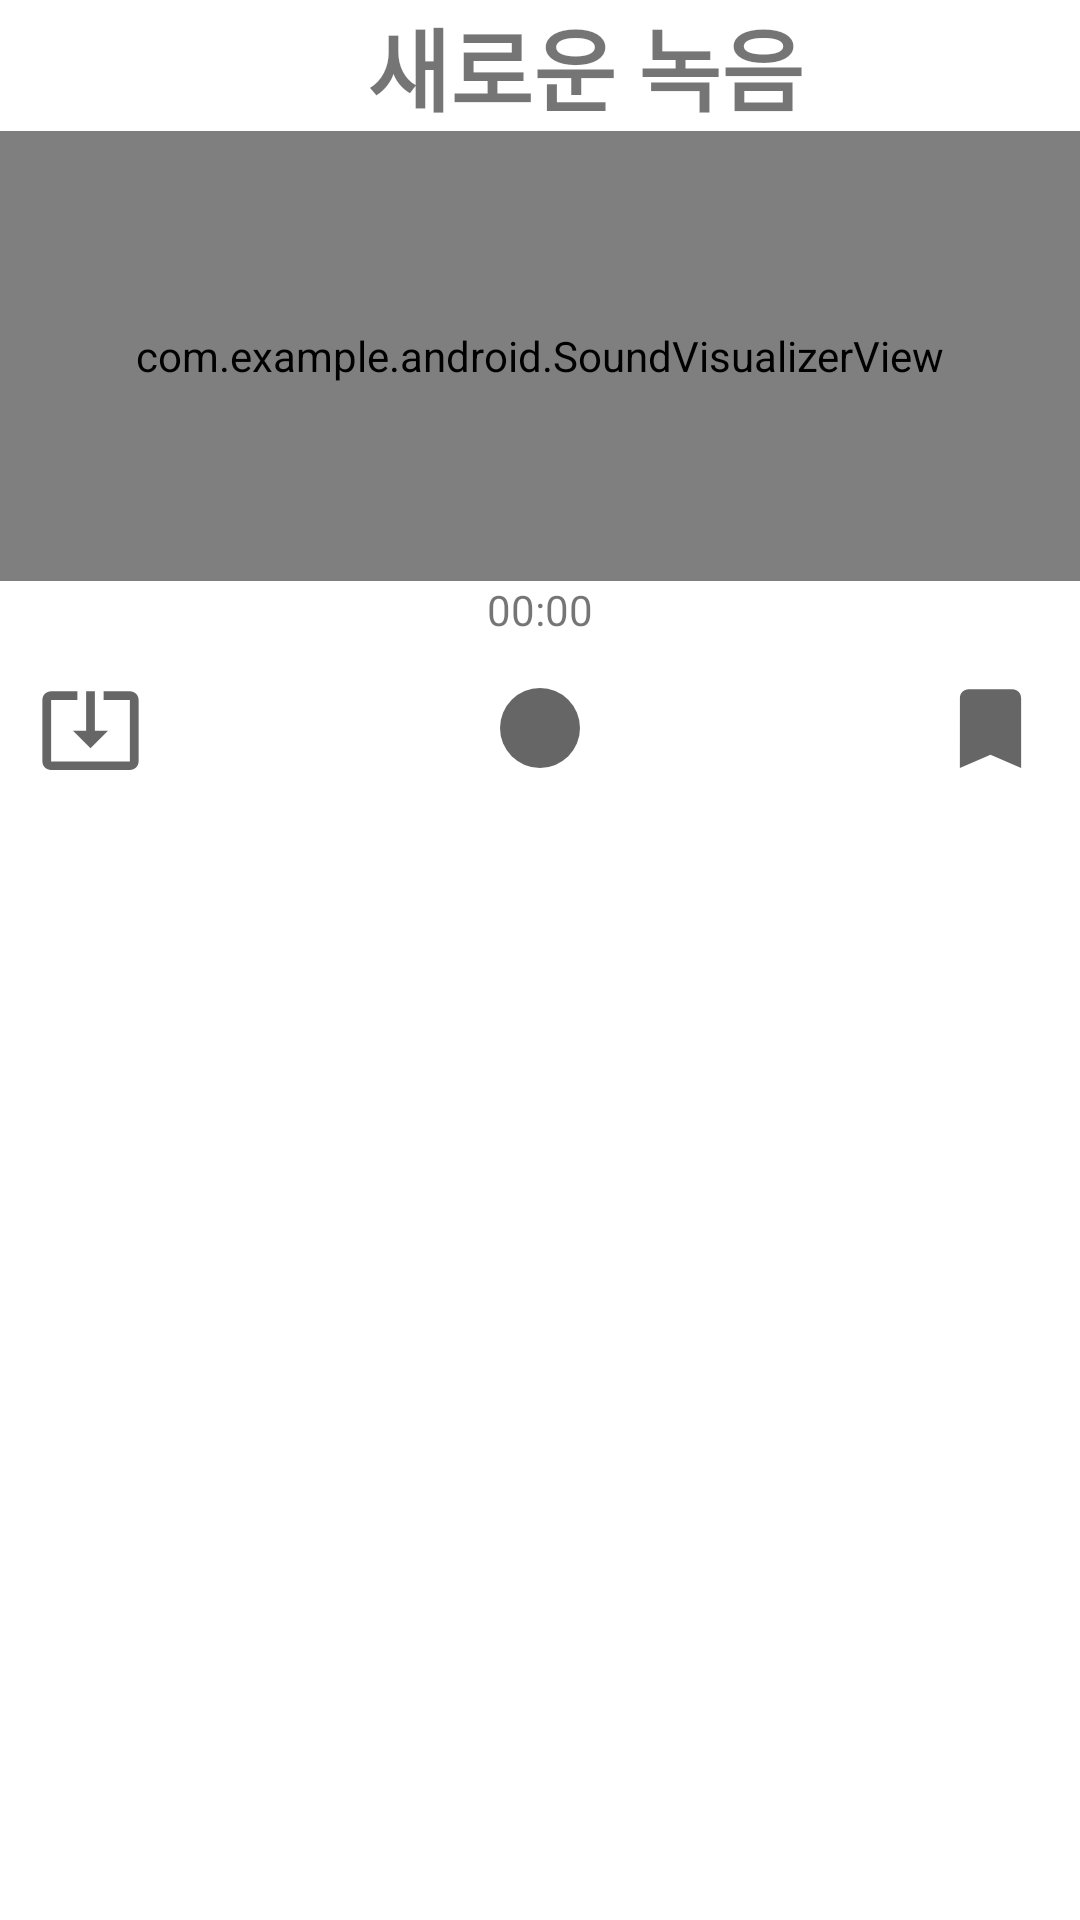

Named icons in this screenshot (1080 × 1920) and their centers, (x,y):
bookmark: (990,728)
record: (540,728)
